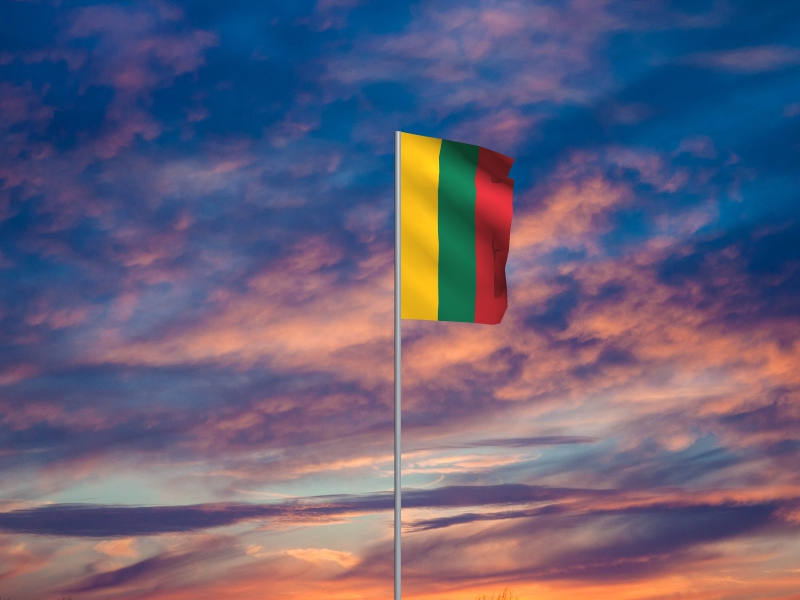lt: (401, 132, 516, 327)
